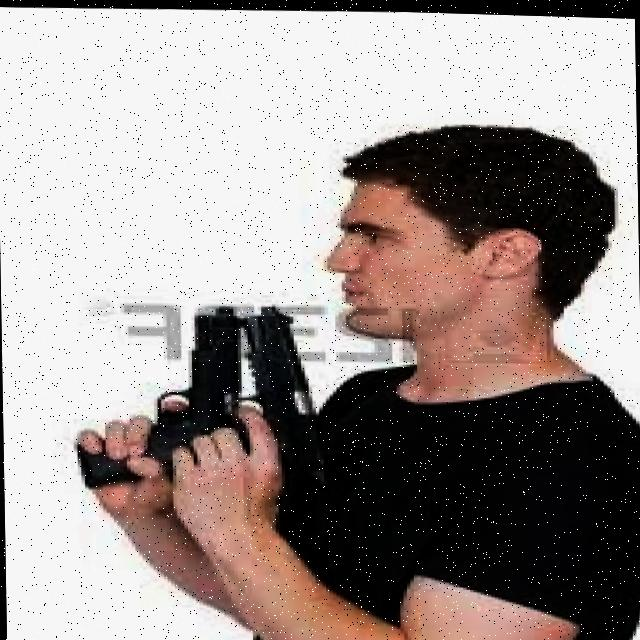pistol: (68, 299, 248, 492), (223, 298, 332, 497)
